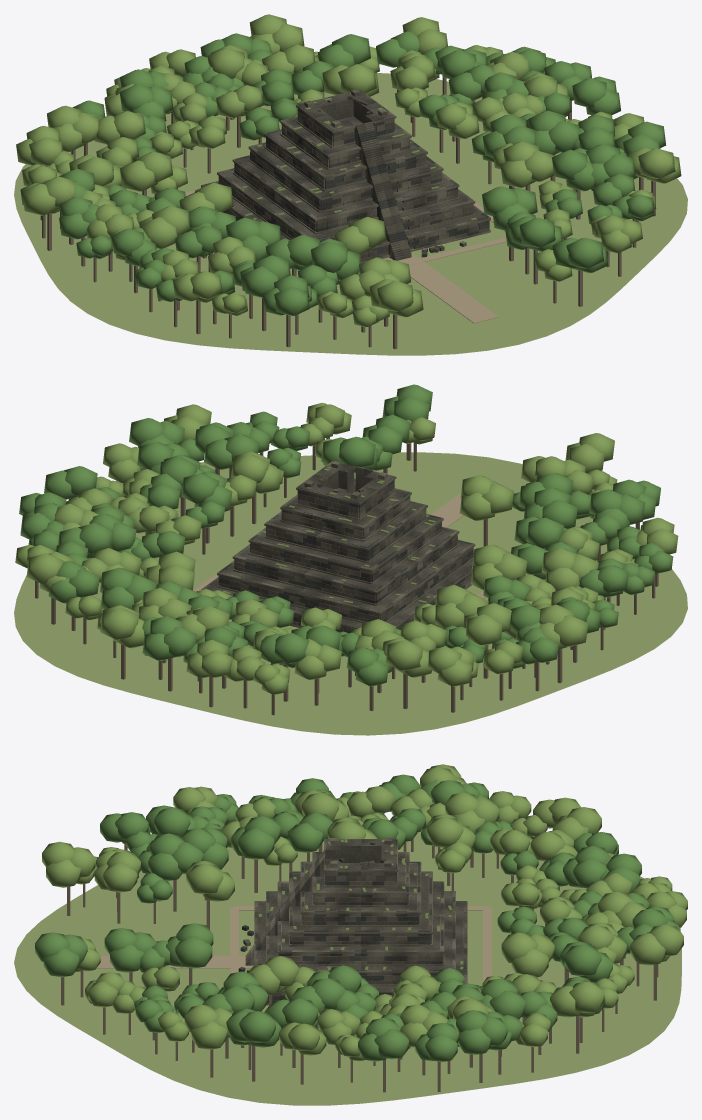
The model's file is koh-ker-normal.glb.
3 views of the same model, one above another, from view 1: azimuth 30°, elevation 25°; view 2: azimuth 150°, elevation 25°; view 3: azimuth 270°, elevation 25° (orthographic).
Parts seen in each view (by area): view 1: Batched | Canopy 0, Batched | Canopy 1, Batched | Grassy clearing, Batched | Weathered sandstone 1, Batched | Weathered sandstone 0, Batched | Weathered sandstone 2, Batched | Bark, Batched | Weathered sandstone 3, Batched | Earth paths, Batched | Ledge plants; view 2: Batched | Canopy 0, Batched | Canopy 1, Batched | Grassy clearing, Batched | Weathered sandstone 0, Batched | Weathered sandstone 1, Batched | Weathered sandstone 2, Batched | Bark, Batched | Weathered sandstone 3, Batched | Earth paths, Batched | Ledge plants; view 3: Batched | Canopy 0, Batched | Canopy 1, Batched | Grassy clearing, Batched | Weathered sandstone 0, Batched | Weathered sandstone 1, Batched | Bark, Batched | Weathered sandstone 2, Batched | Weathered sandstone 3, Batched | Earth paths, Batched | Ledge plants.
Part boxes in pixels (x1,y1,x2,y2): Batched | Canopy 0: (20, 31, 666, 316); Batched | Canopy 1: (16, 14, 681, 327); Batched | Grassy clearing: (14, 73, 687, 355); Batched | Weathered sandstone 1: (201, 89, 490, 270); Batched | Weathered sandstone 0: (203, 90, 489, 260); Batched | Weathered sandstone 2: (218, 91, 489, 257); Batched | Bark: (40, 66, 655, 349); Batched | Weathered sandstone 3: (214, 97, 482, 258); Batched | Earth paths: (185, 190, 506, 323); Batched | Ledge plants: (241, 93, 476, 220); Batched | Canopy 0: (19, 384, 673, 686); Batched | Canopy 1: (15, 403, 678, 694); Batched | Grassy clearing: (14, 452, 687, 735); Batched | Weathered sandstone 0: (206, 464, 473, 632); Batched | Weathered sandstone 1: (201, 461, 475, 628); Batched | Weathered sandstone 2: (218, 464, 473, 633); Batched | Bark: (35, 437, 658, 715); Batched | Weathered sandstone 3: (219, 466, 473, 628); Batched | Earth paths: (193, 492, 485, 621); Batched | Ledge plants: (222, 467, 438, 603); Batched | Canopy 0: (35, 774, 680, 1062); Batched | Canopy 1: (42, 764, 687, 1061); Batched | Grassy clearing: (14, 830, 681, 1105); Batched | Weathered sandstone 0: (243, 839, 466, 1003); Batched | Weathered sandstone 1: (247, 838, 467, 1005); Batched | Bark: (61, 839, 658, 1092); Batched | Weathered sandstone 2: (238, 839, 466, 1002); Batched | Weathered sandstone 3: (240, 839, 466, 995); Batched | Earth paths: (97, 906, 491, 982); Batched | Ledge plants: (258, 839, 463, 970).
Size of the model in its own units: 23.31 by 4.25 by 23.21.
Materials: 10 (4 with a texture image).
